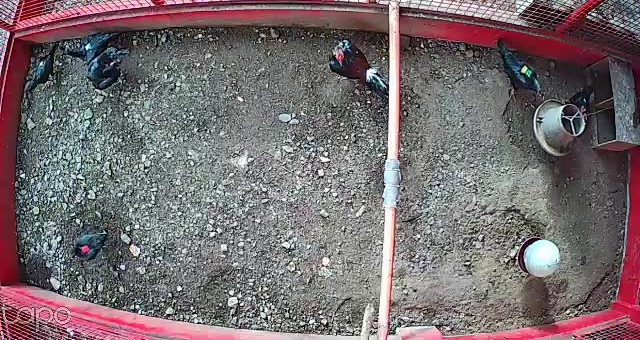Chicken: (485, 30, 557, 106), (21, 40, 65, 101), (63, 25, 127, 66), (80, 44, 132, 91), (563, 79, 605, 124), (73, 227, 110, 264)
Saddle_Color_Red: (319, 34, 388, 96), (80, 244, 89, 252)
Saddle_Color_White: (85, 43, 93, 50)
Saddle_Color_Yellow: (40, 60, 45, 68)
Saddle_Color_YellowGreen: (519, 63, 536, 81)
